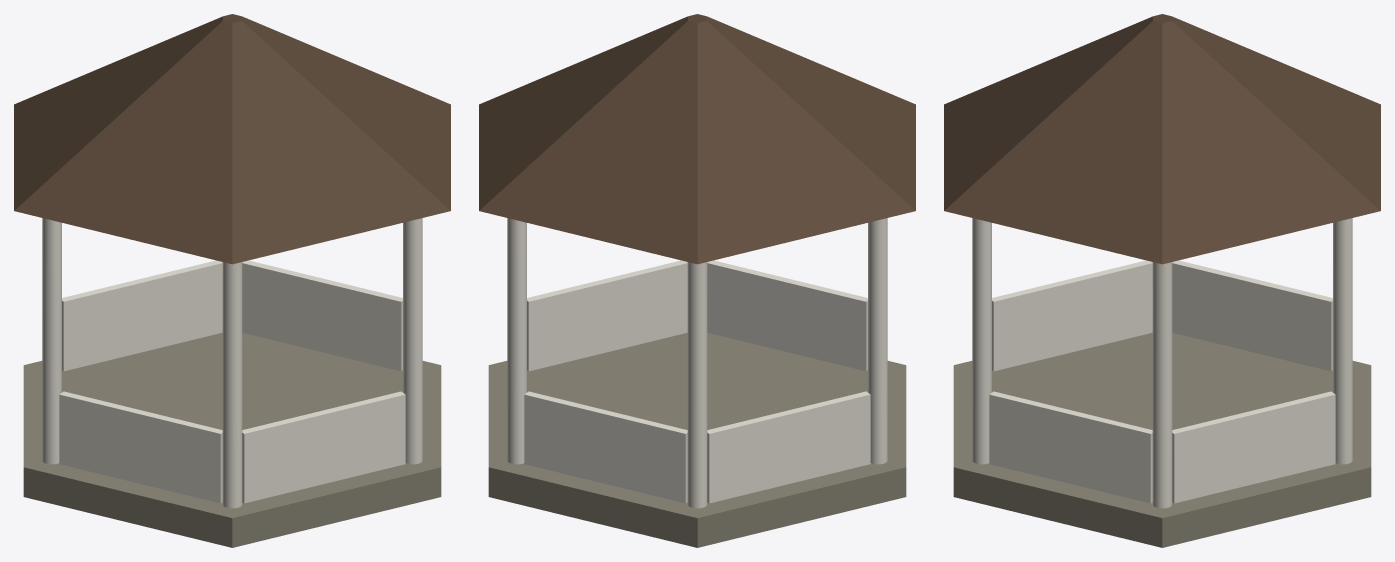
The model's file is a09-gazebo-hexagonal.glb.
3 renders of one model, left to right at view 1: azimuth 30°, elevation 25°; view 2: azimuth 150°, elevation 25°; view 3: azimuth 270°, elevation 25°, orthographic.
Parts seen in each view (by area): view 1: part3, part2, part0, part1; view 2: part3, part2, part0, part1; view 3: part3, part2, part0, part1.
Boxes of the visible parts, bbox=[...] form: part3: bbox=[14, 14, 450, 264]; part2: bbox=[59, 260, 405, 503]; part0: bbox=[23, 332, 441, 547]; part1: bbox=[42, 218, 422, 508]; part3: bbox=[479, 14, 915, 264]; part2: bbox=[524, 260, 870, 503]; part0: bbox=[488, 332, 906, 547]; part1: bbox=[507, 218, 887, 508]; part3: bbox=[944, 14, 1380, 264]; part2: bbox=[989, 260, 1335, 503]; part0: bbox=[953, 332, 1371, 547]; part1: bbox=[972, 218, 1352, 508].
Size of the model in its own units: 4600 by 4300 by 3984.
